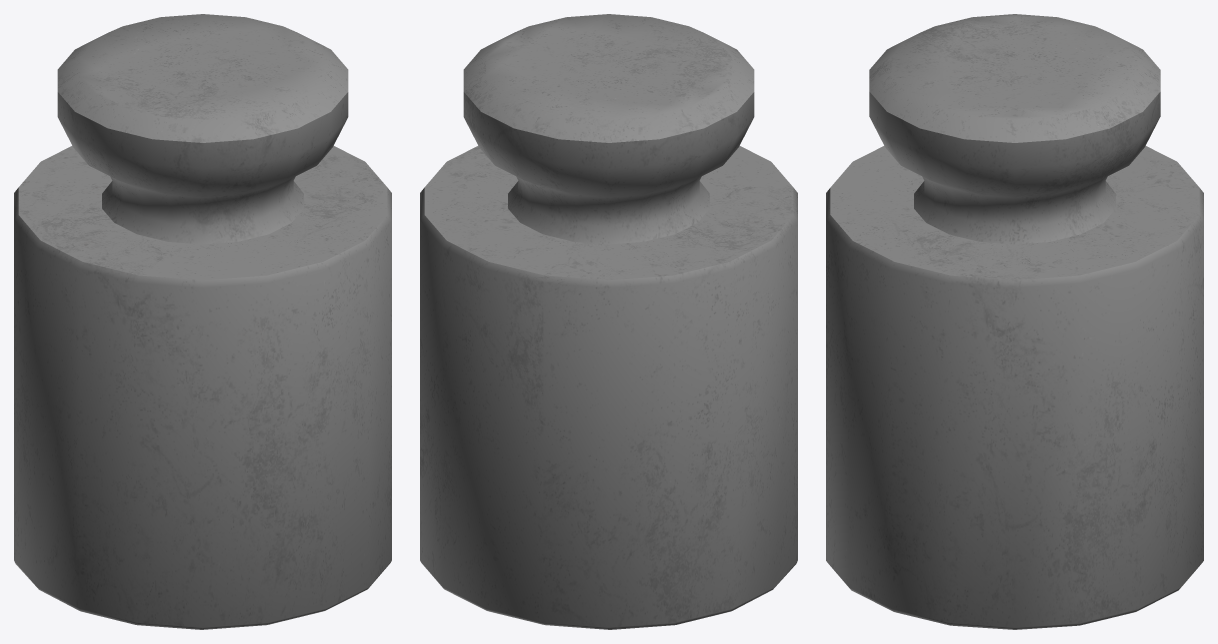
Rendered from Scale_choo.fbx.
3 renders of one model, left to right at view 1: azimuth 30°, elevation 25°; view 2: azimuth 150°, elevation 25°; view 3: azimuth 270°, elevation 25°, orthographic.
Parts seen in each view (by area): view 1: Cylinder167; view 2: Cylinder167; view 3: Cylinder167.
Boxes of the visible parts, x1,y1,x2,y2 form: Cylinder167: [14, 14, 391, 629]; Cylinder167: [420, 14, 797, 629]; Cylinder167: [826, 14, 1203, 629].
Size of the model in its own units: 32.31 by 44.9 by 31.82.
